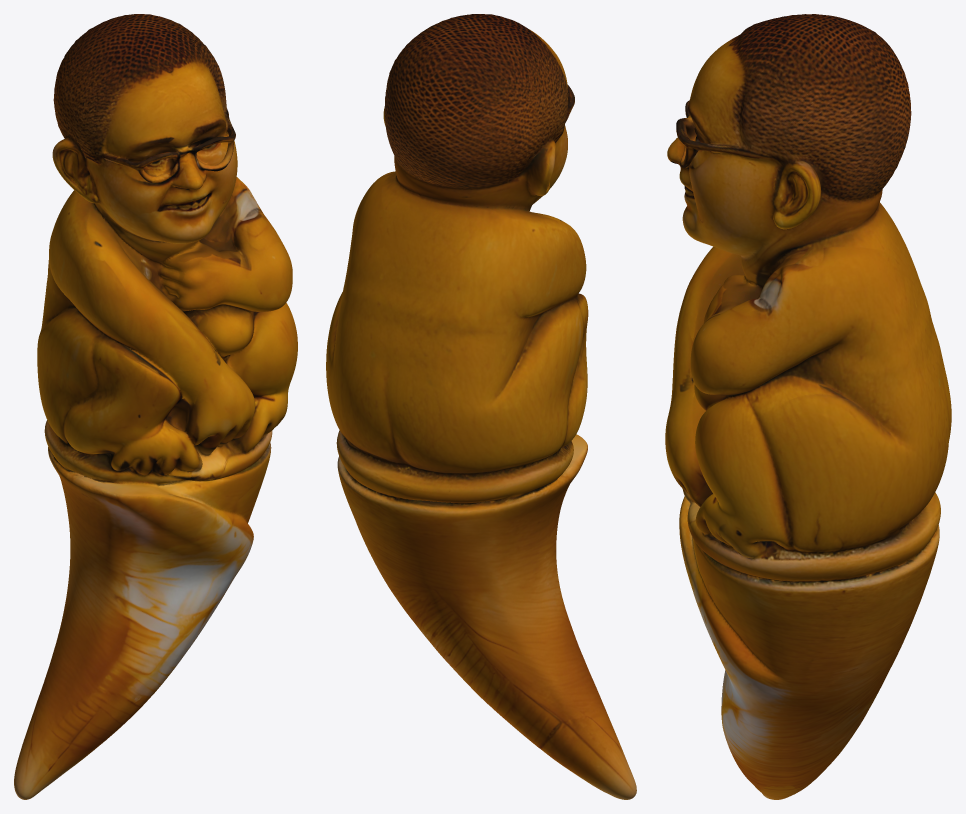
3 renders of one model, left to right at view 1: azimuth 30°, elevation 25°; view 2: azimuth 150°, elevation 25°; view 3: azimuth 270°, elevation 25°, orthographic. The views are drawn at different scales.
Visible parts, largest first — view 1: tripo_node_ded9211f-da19-4e3b-9c9e-adfa55b8d77a; view 2: tripo_node_ded9211f-da19-4e3b-9c9e-adfa55b8d77a; view 3: tripo_node_ded9211f-da19-4e3b-9c9e-adfa55b8d77a.
Boxes of the visible parts, x1,y1,x2,y2 form: tripo_node_ded9211f-da19-4e3b-9c9e-adfa55b8d77a: (14, 14, 297, 799); tripo_node_ded9211f-da19-4e3b-9c9e-adfa55b8d77a: (326, 14, 636, 799); tripo_node_ded9211f-da19-4e3b-9c9e-adfa55b8d77a: (665, 14, 951, 799).
Bounding box in the file's own units: 0.3813 × 1 × 0.3059.
Materials: 1 (1 with a texture image).
